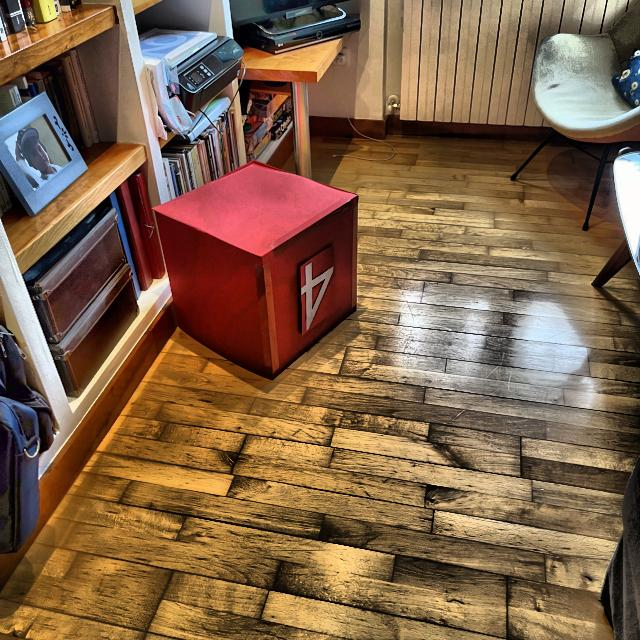four: (300, 262, 333, 331)
red box: (154, 162, 358, 379)
